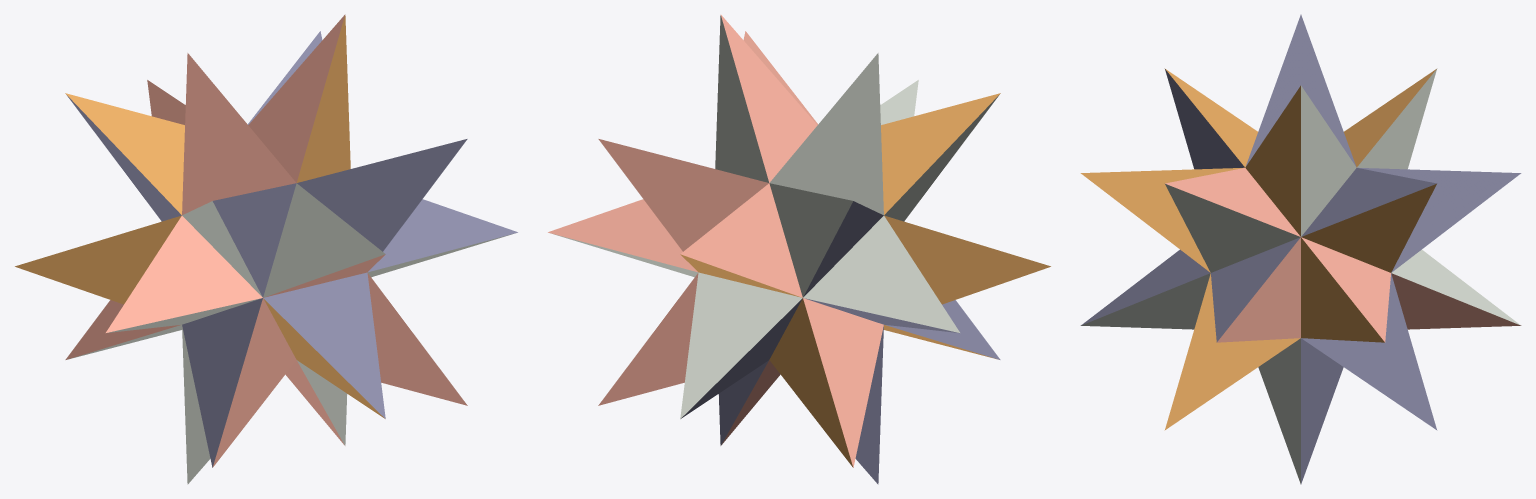
3 views of the same model, side by side, from view 1: azimuth 30°, elevation 25°; view 2: azimuth 150°, elevation 25°; view 3: azimuth 270°, elevation 25° (orthographic). The views are drawn at different scales.
Visible parts, largest first — view 1: Great_Stellated_Dodecahedron_Colored; view 2: Great_Stellated_Dodecahedron_Colored; view 3: Great_Stellated_Dodecahedron_Colored.
Boxes of the visible parts, x1,y1,x2,y2 form: Great_Stellated_Dodecahedron_Colored: [15, 14, 517, 484]; Great_Stellated_Dodecahedron_Colored: [548, 14, 1050, 484]; Great_Stellated_Dodecahedron_Colored: [1080, 14, 1521, 484].
Size of the model in its own units: 7.91 by 7.91 by 7.91.
